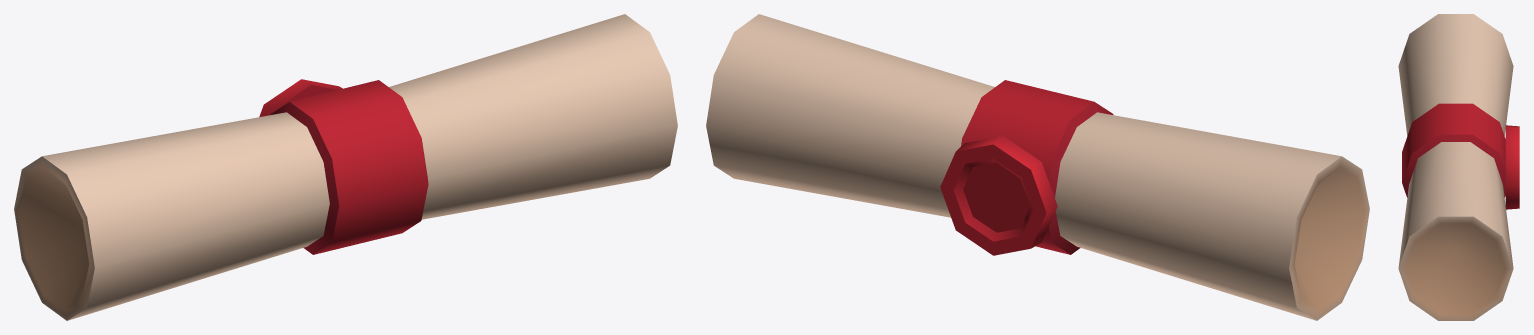
File: PaperScroll4.fbx
3 renders of one model, left to right at view 1: azimuth 30°, elevation 25°; view 2: azimuth 150°, elevation 25°; view 3: azimuth 270°, elevation 25°, orthographic. The views are drawn at different scales.
Visible parts, largest first — view 1: PaperScroll4; view 2: PaperScroll4; view 3: PaperScroll4.
Part boxes in pixels (<box>): PaperScroll4: <box>14,14,677,320</box>; PaperScroll4: <box>706,14,1369,320</box>; PaperScroll4: <box>1398,14,1519,320</box>.
Size of the model in its own units: 25 by 6 by 6.31.
